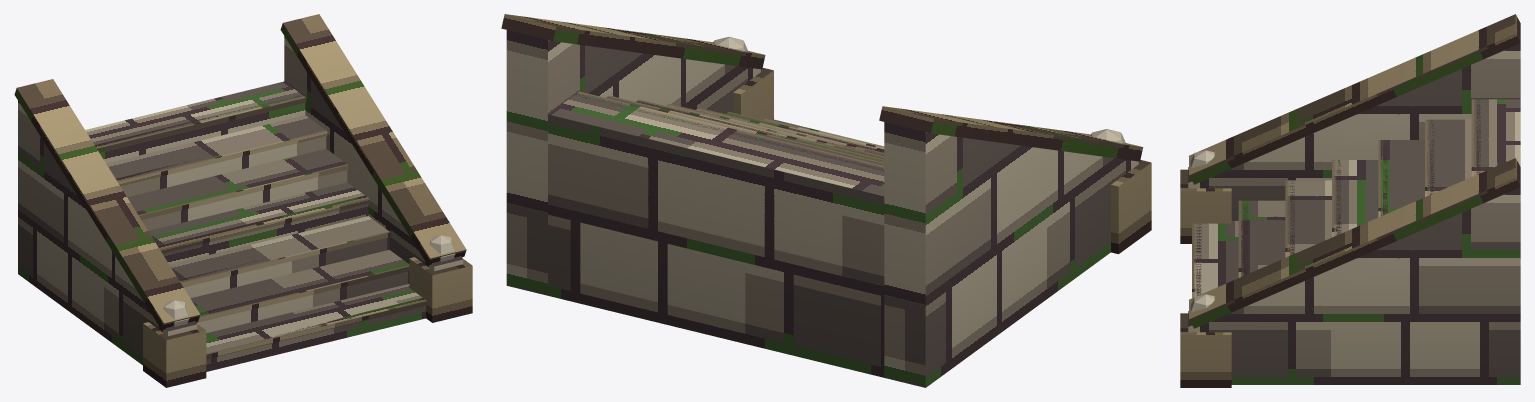
Rendered from scene_stair_jarl.glb.
3 views of the same model, side by side, from view 1: azimuth 30°, elevation 25°; view 2: azimuth 150°, elevation 25°; view 3: azimuth 270°, elevation 25° (orthographic). The views are drawn at different scales.
Parts seen in each view (by area): view 1: scene_stair_jarl; view 2: scene_stair_jarl; view 3: scene_stair_jarl.
Part boxes in pixels (left/top/right/bottom): scene_stair_jarl: left=14, top=14, right=472, bottom=387; scene_stair_jarl: left=501, top=14, right=1151, bottom=387; scene_stair_jarl: left=1180, top=14, right=1520, bottom=387.
Size of the model in its own units: 3.36 by 1.98 by 2.92.
2 materials, 1 textured.
